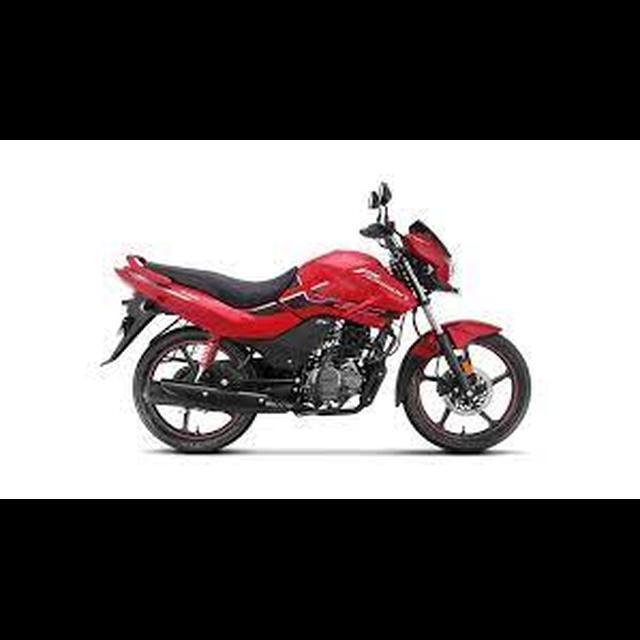motorcycle: (97, 171, 535, 458)
